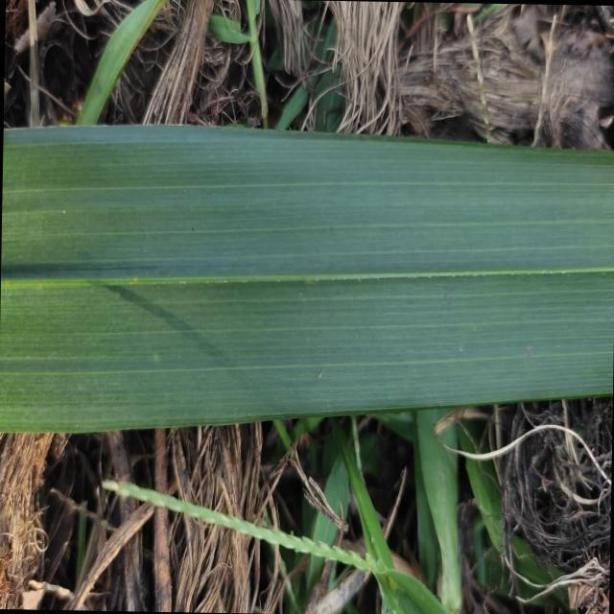Healthy: (0, 124, 614, 432)
